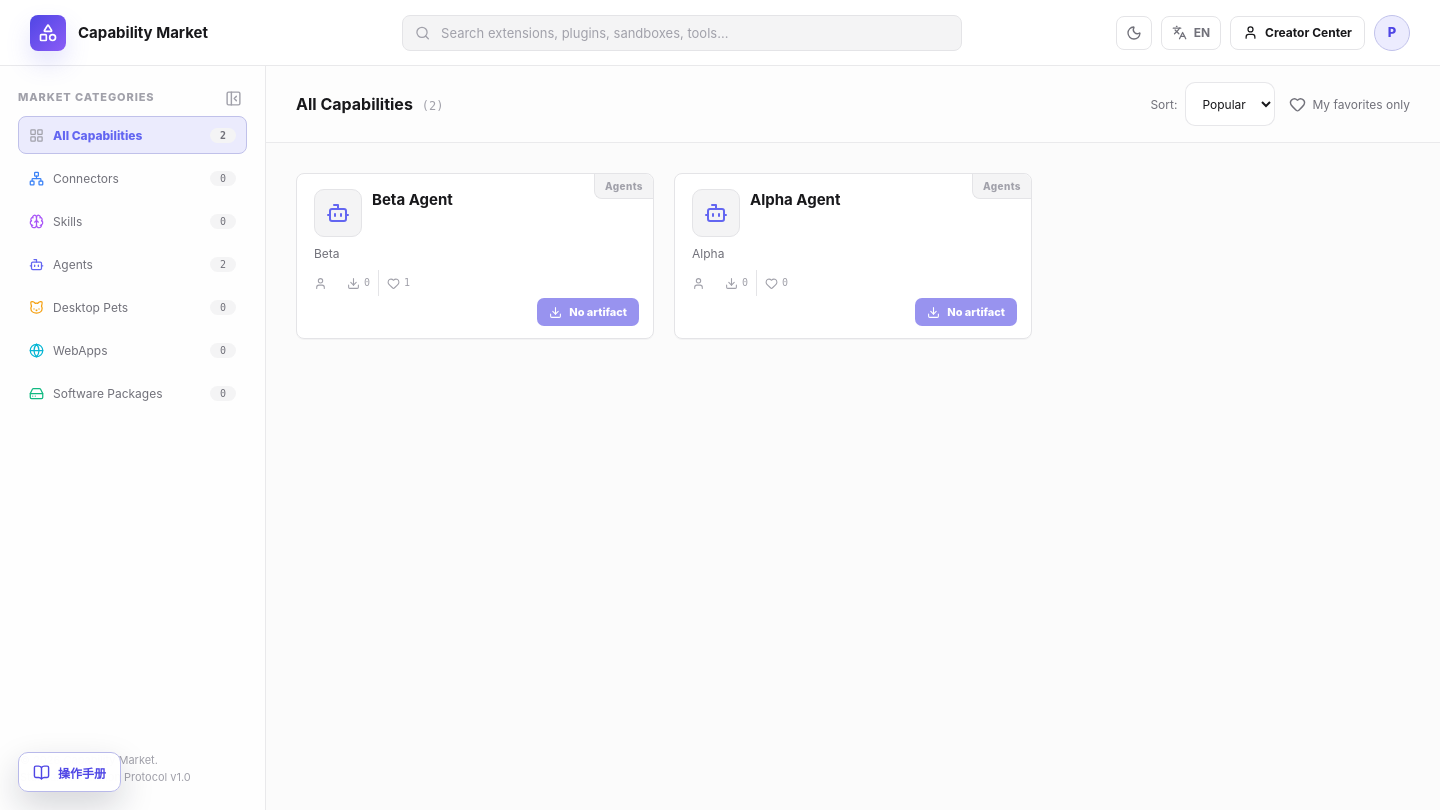
Test: market routing › updates a favorite without reordering the current catalog view
The image size is (1440, 810).
Expected: the heading "Alpha Agent" is shown, [750,190,840,209]
Click the button named "Favorite: 0".
click(774, 283)  # box [756,270,793,296]
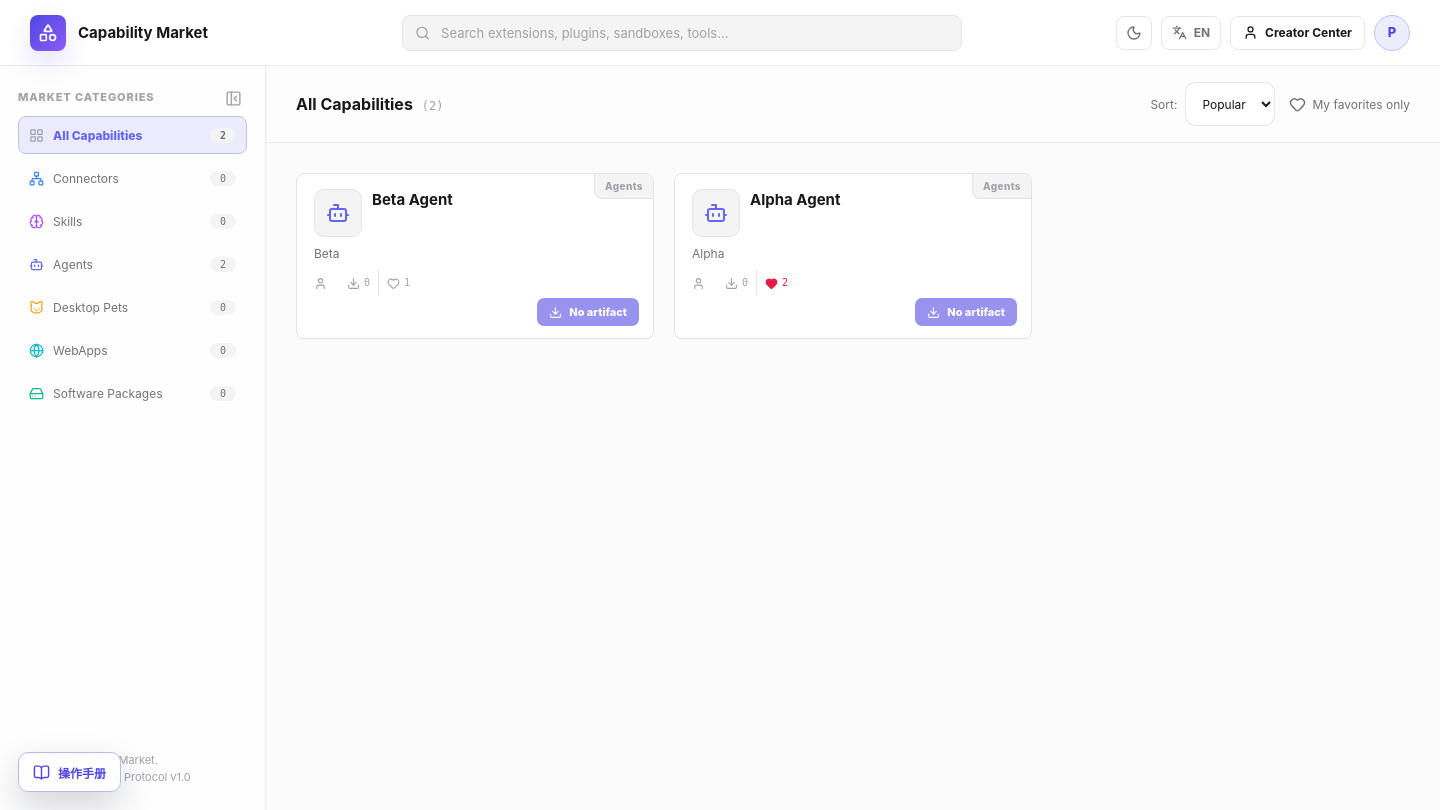
Result: the button named "Unfavorite: 2" is shown at [756,270,793,296]
